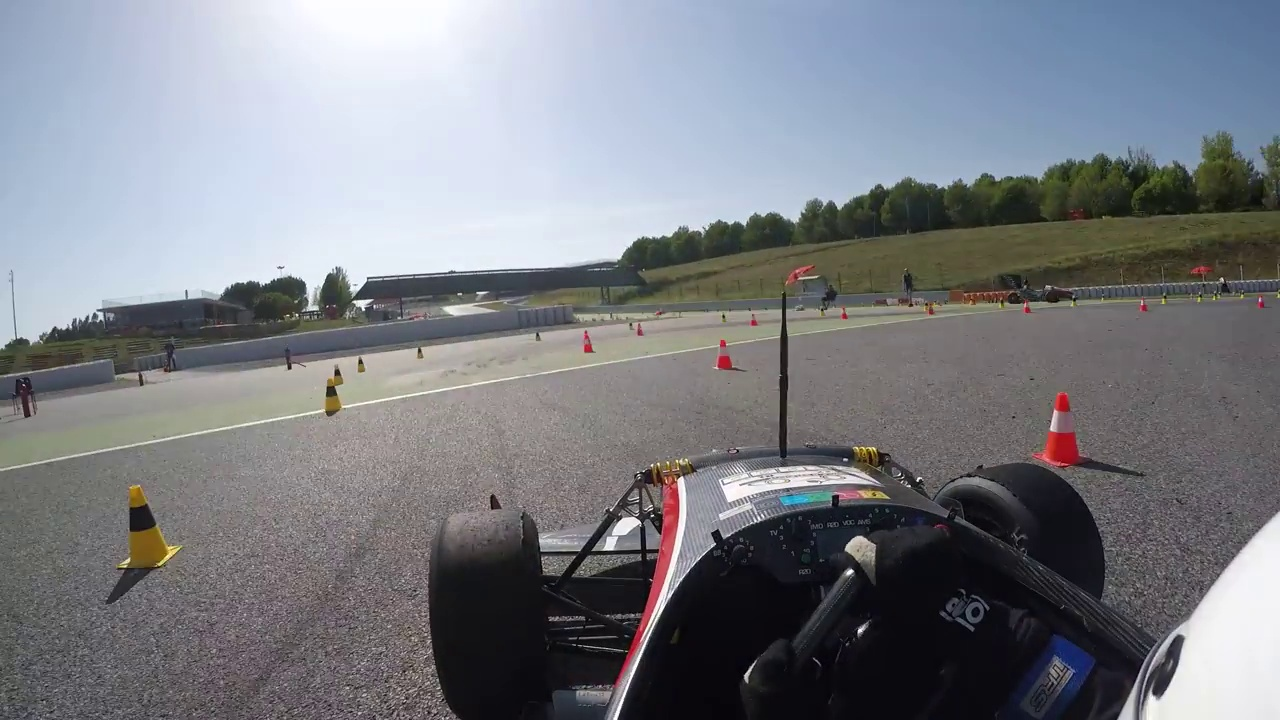Cone: (121, 484, 175, 571), (1040, 390, 1081, 464), (320, 377, 345, 413), (713, 338, 735, 371)
